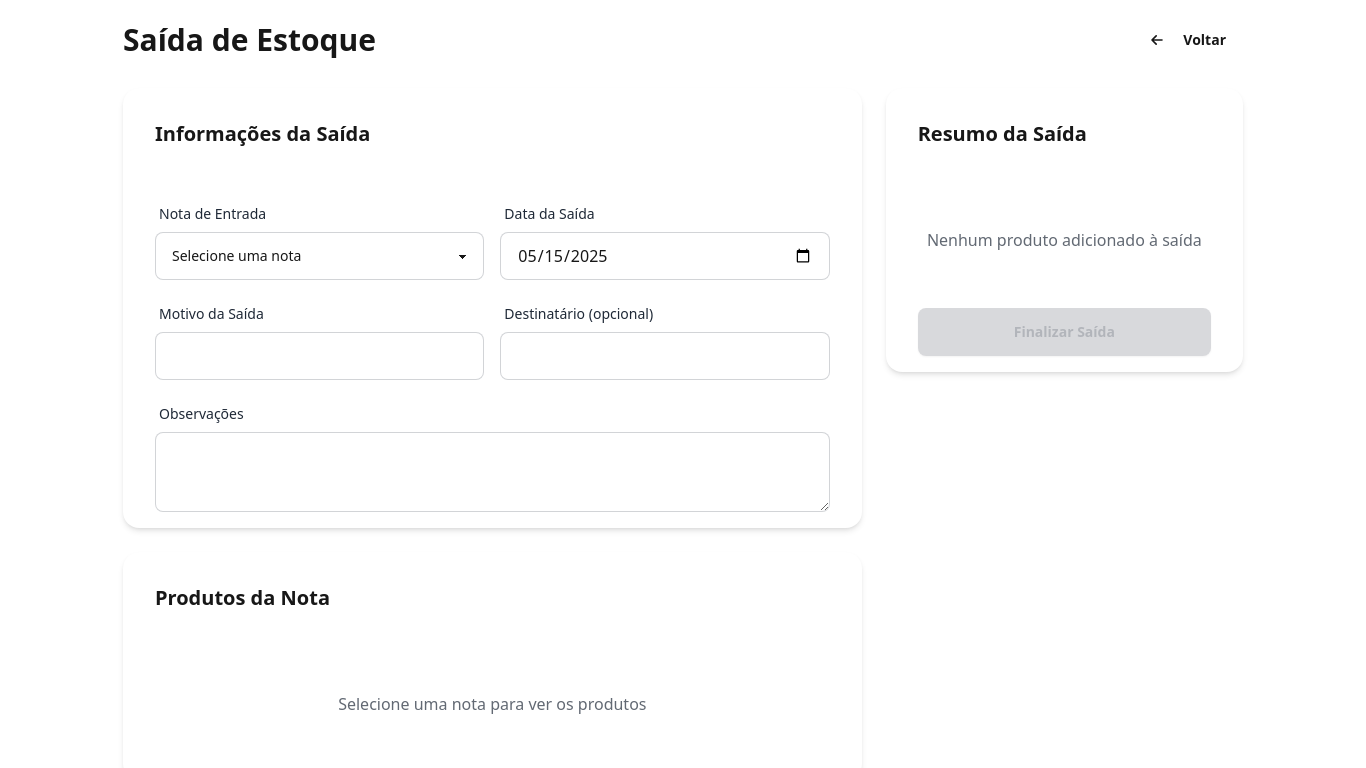
Componente SaidaEstoque › Seleção de Produtos e Manuseio de Quantidade › Ao clicar no botão remover, deve remover o item de itensSaida
Note: Seleciona uma nota e adiciona um produto
Select "001 - Fornecedor Teste" in the dropdown labelled "Nota de Entrada" at (320, 256), box x1=155 y1=232 x2=484 y2=280
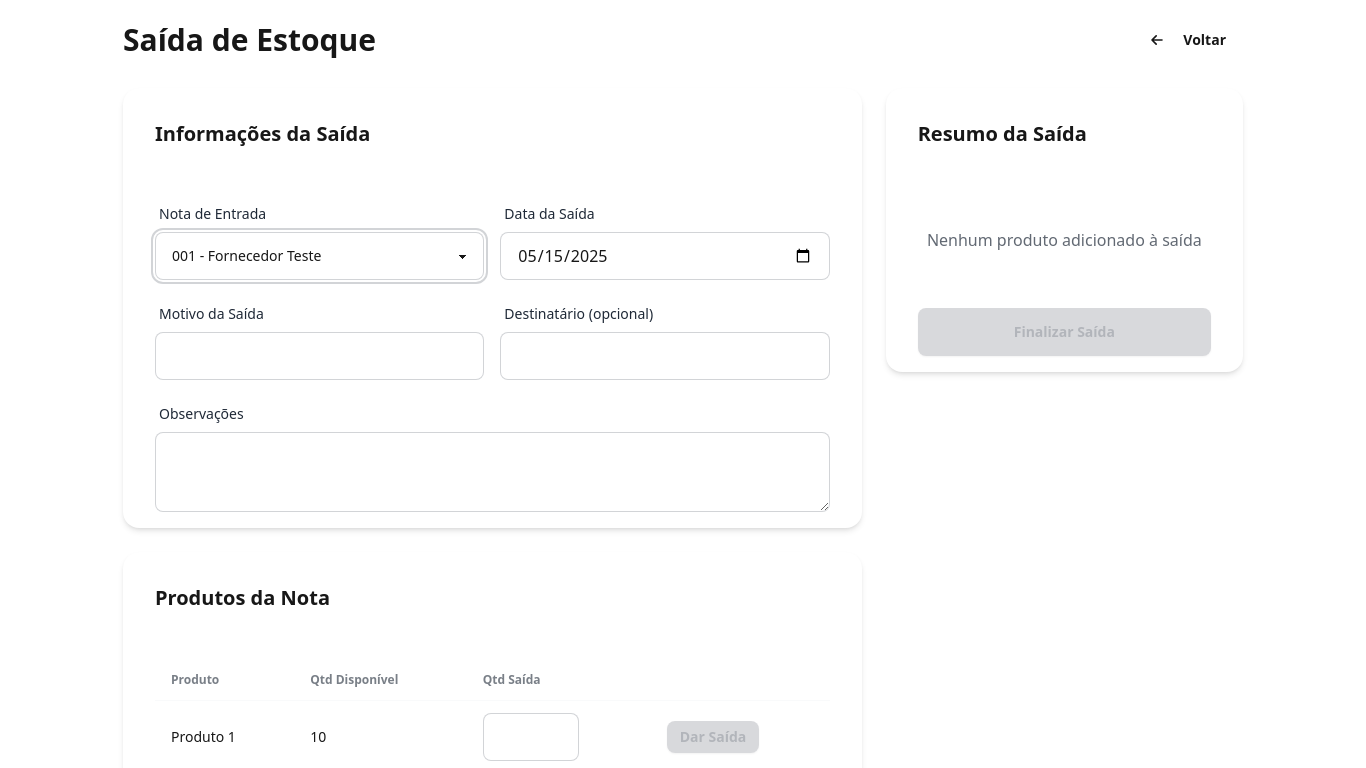
Type "5" into the number field at (531, 737), box x1=483 y1=713 x2=579 y2=761
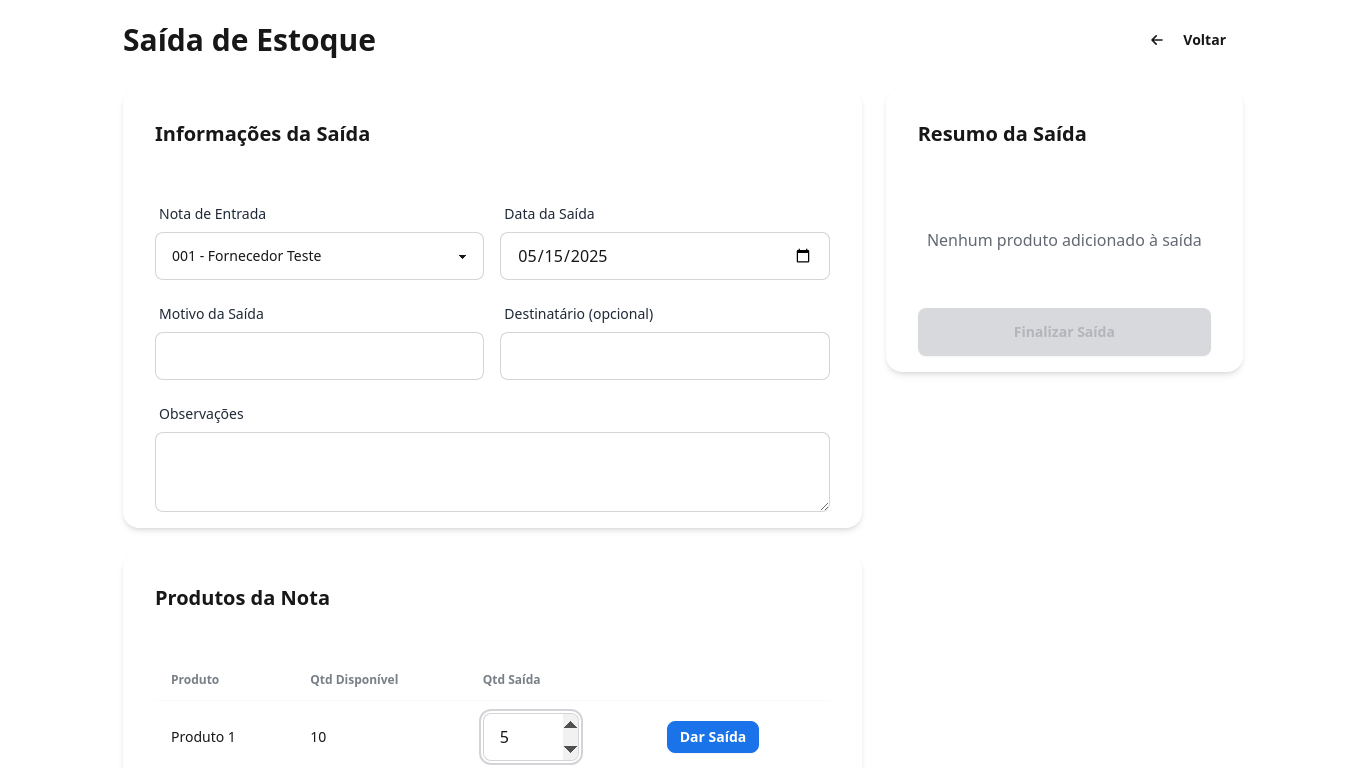
Click the button with test id "dar-saida-p1" at (713, 737), box x1=667 y1=721 x2=759 y2=753
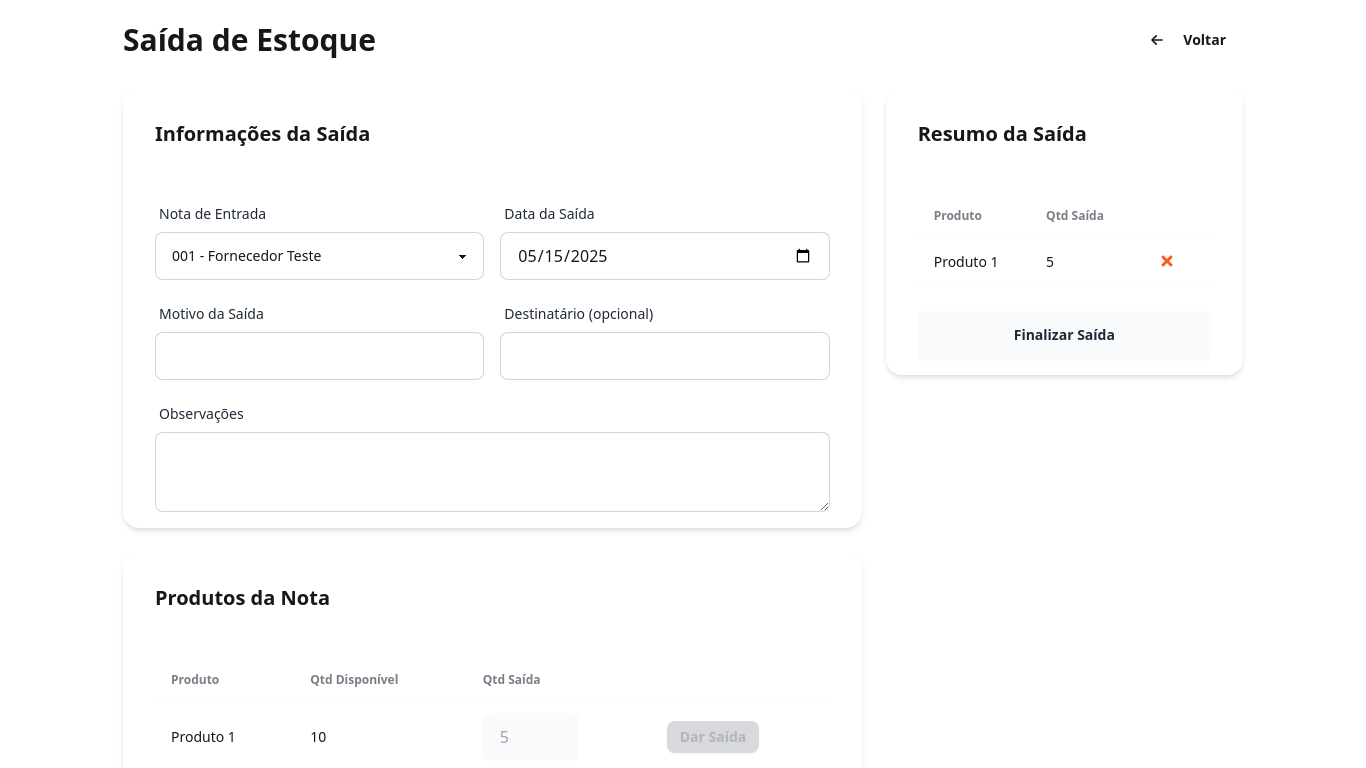
Expected: the text "Nenhum produto adicionado à saída" is gone
Note: Clica no botão de remover
Click the 2nd button at (1167, 261), box x1=1150 y1=249 x2=1184 y2=273
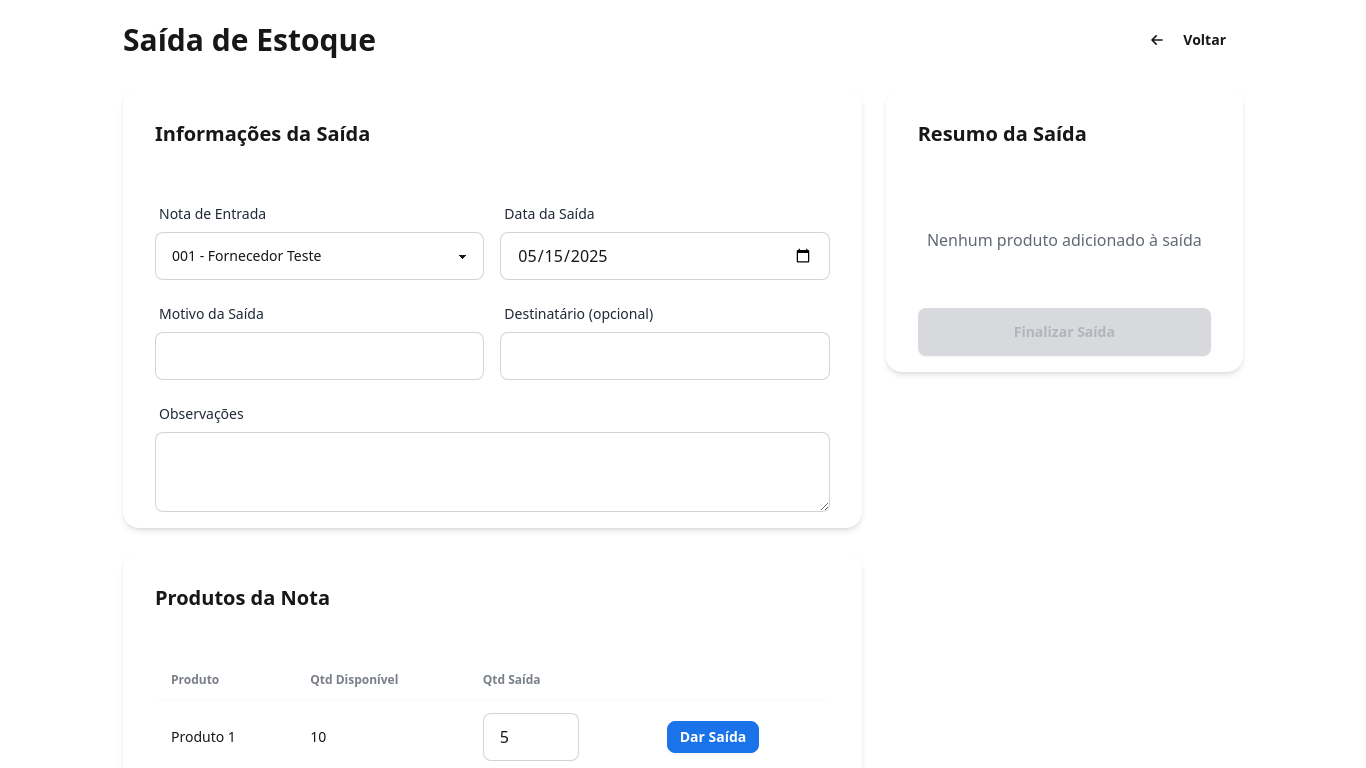
Expected: the text "Nenhum produto adicionado à saída" is shown, x1=927 y1=229 x2=1202 y2=251
Expected: the button with test id "dar-saida-p1" is enabled, x1=667 y1=721 x2=759 y2=753
Expected: the number field is enabled, x1=483 y1=713 x2=579 y2=761
